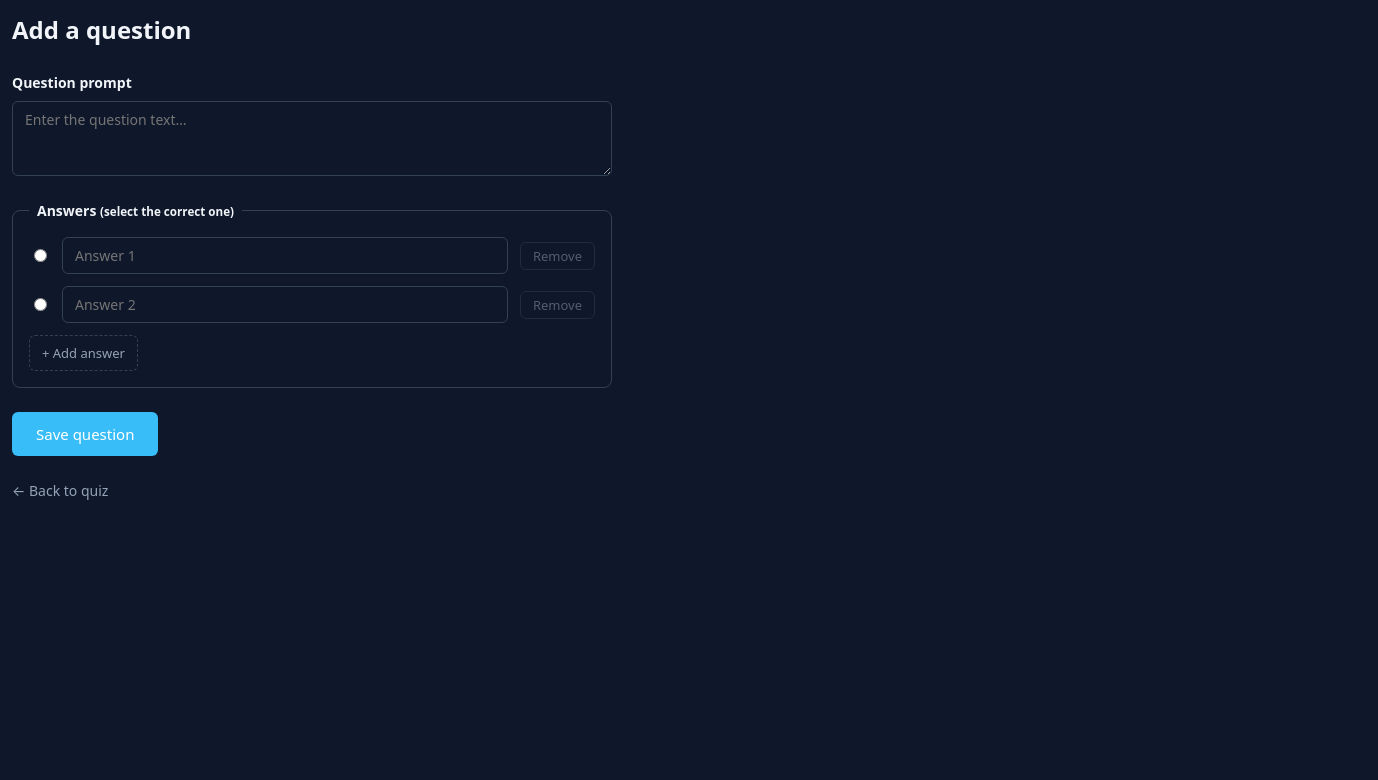
Test case: Add question page › shows success message after successful submission
Type "My question?" into the text box labelled "Question prompt" at (312, 138), box [12,101,612,176]
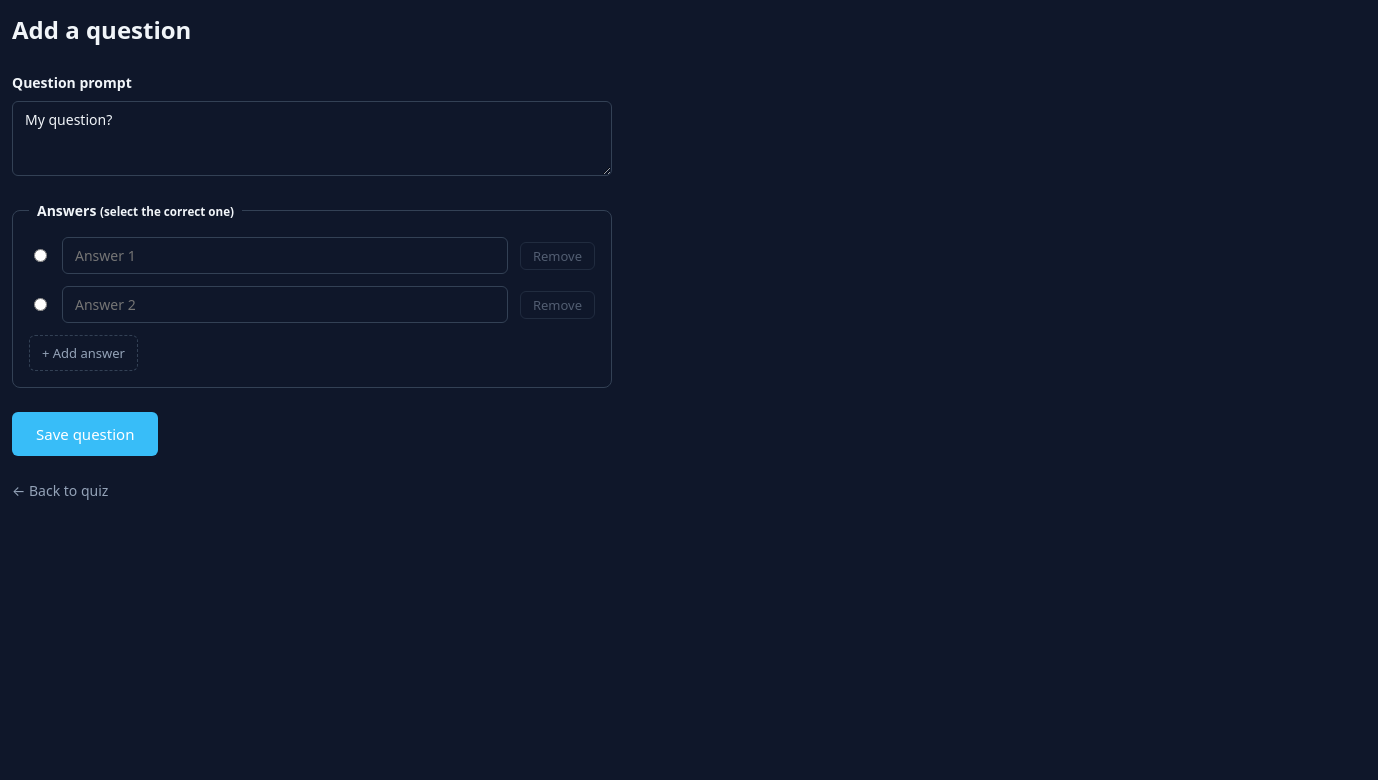
Click the radio button named "Mark answer 1 as correct" at (40, 255), box [34,248,47,262]
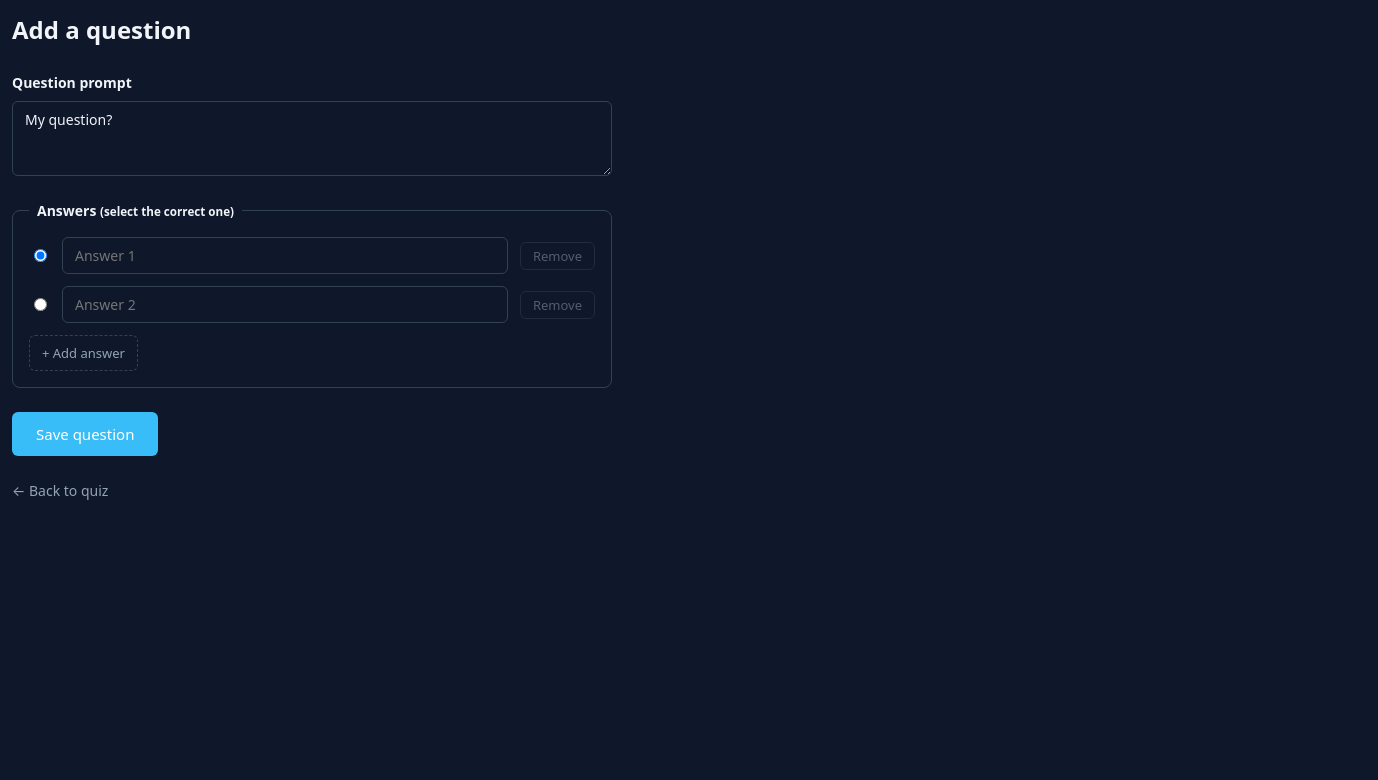
Type "Answer A" into the field with placeholder "Answer 1" at (285, 256), box [62,237,508,274]
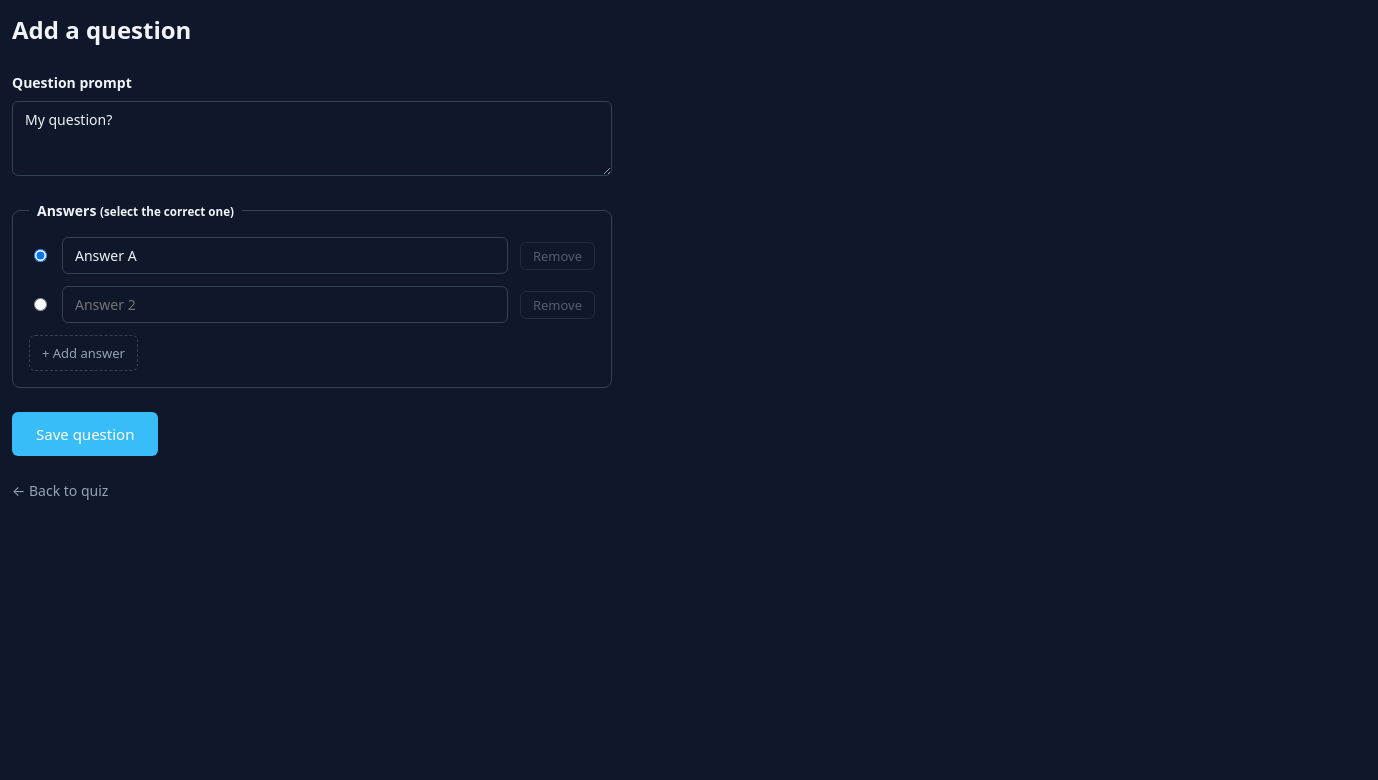
Type "Answer B" into the field with placeholder "Answer 2" at (285, 304), box [62,286,508,323]
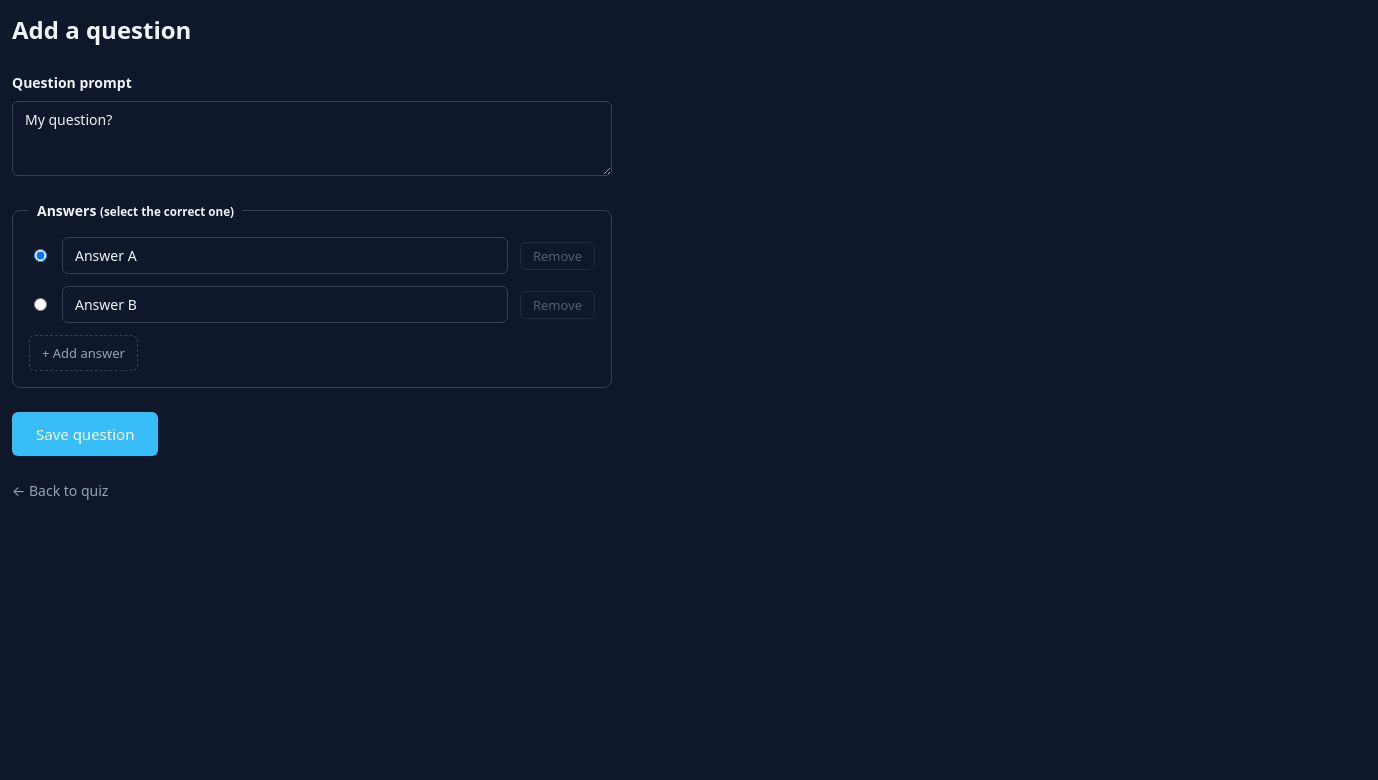
Submit the form, box [12,72,612,456]
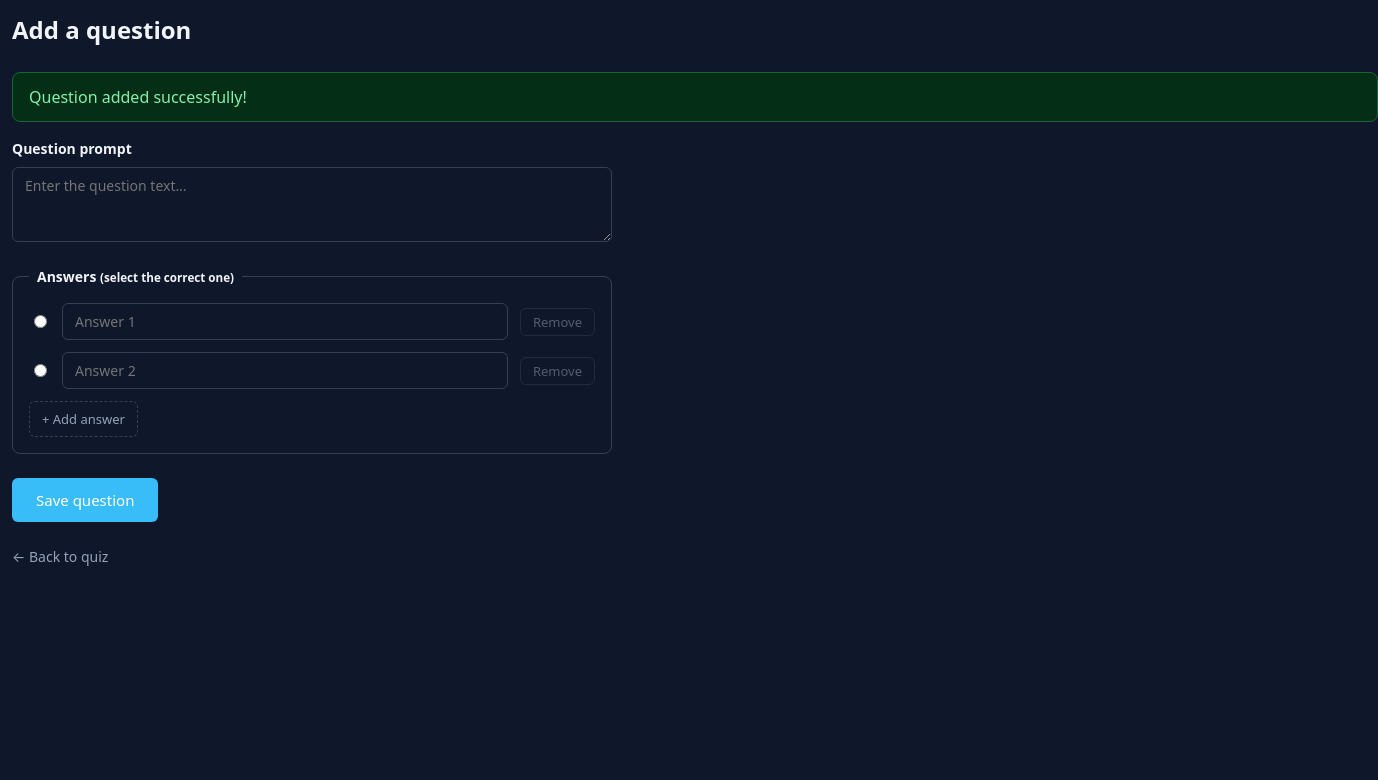
Expected: the text "Question added successfully" is shown, [29,86,247,108]
